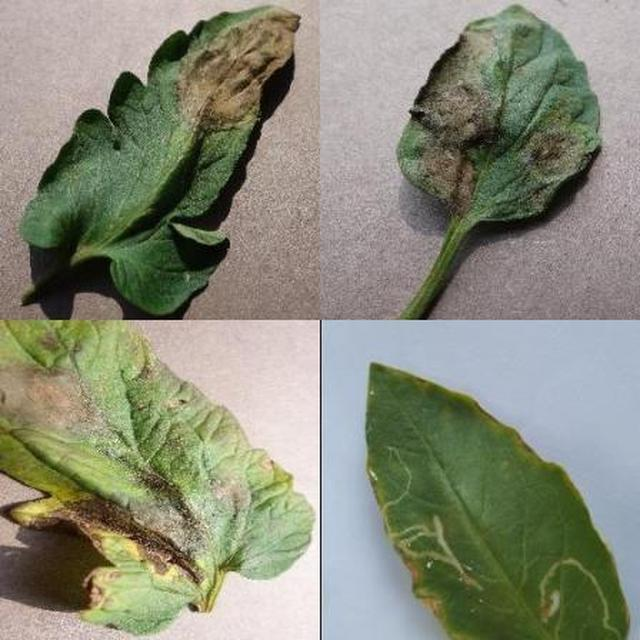Late Blight Leaf: (227, 161, 640, 640)
